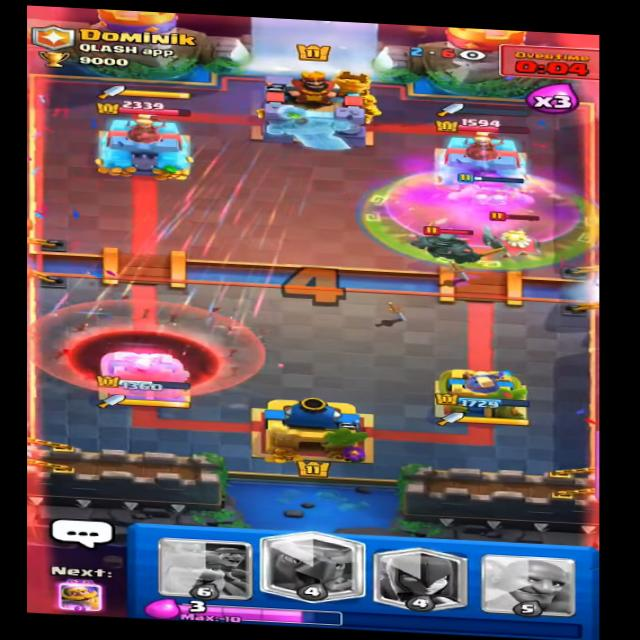arrows: (38, 292, 272, 396)
pekka: (404, 220, 487, 263)
royal-ghost: (486, 211, 545, 264)
void: (61, 323, 221, 392)
